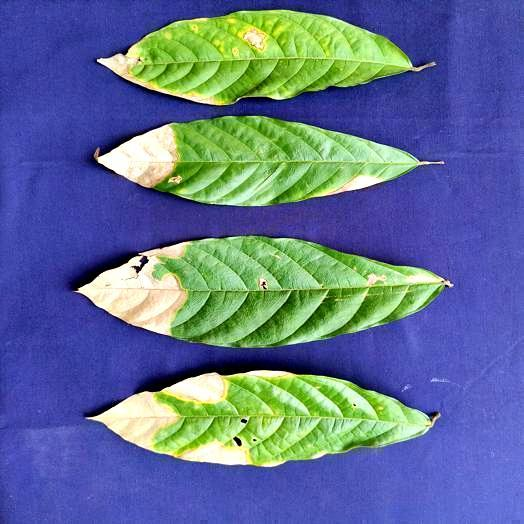Potassium: (78, 236, 450, 347), (89, 371, 437, 466), (99, 10, 433, 104), (98, 116, 439, 205)
